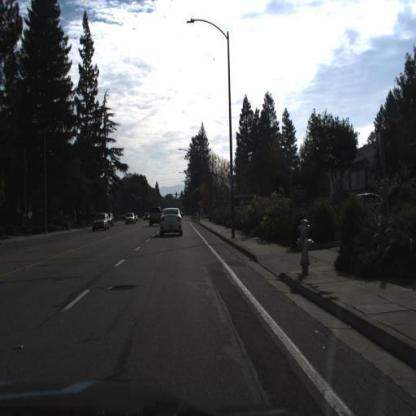car: (160, 206, 185, 236), (91, 211, 110, 235), (147, 206, 161, 229), (127, 214, 137, 227)
